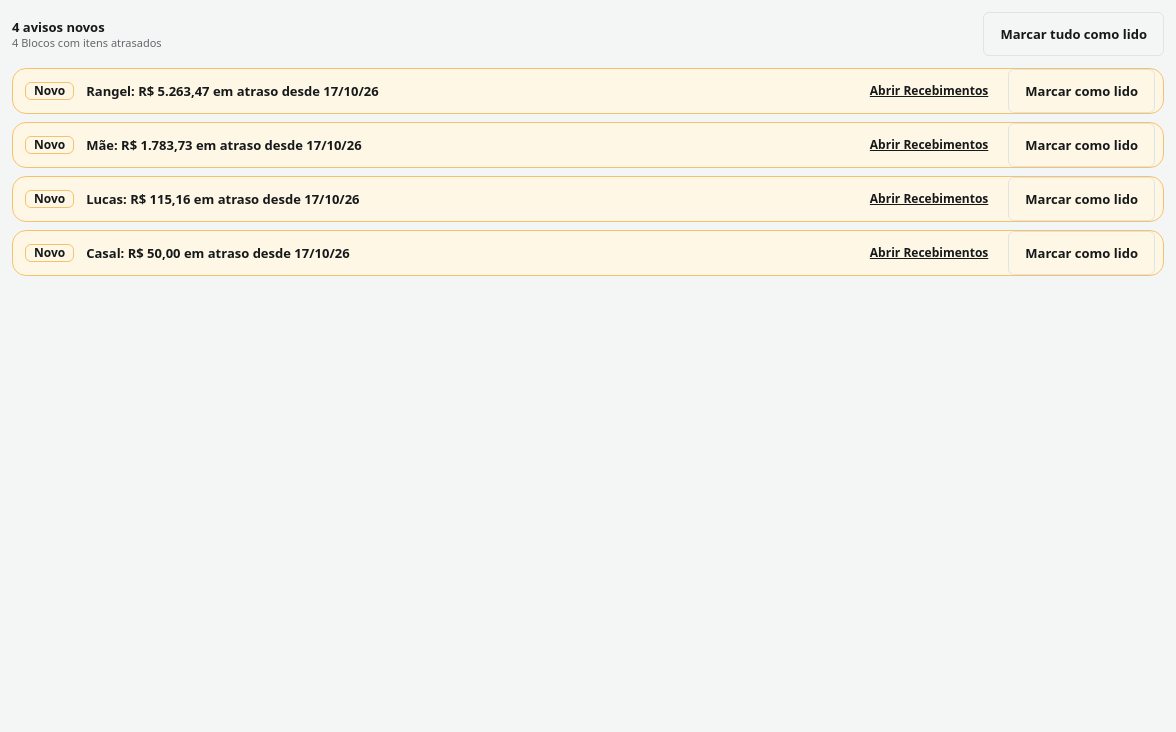
Test: Central de Avisos: marcar como lido › se o banco recusar, avisa 'Não foi possível salvar' e o aviso segue Novo
Click the button with aria-label "Marcar como lido: ": (1082,91) [1008,69,1155,113]
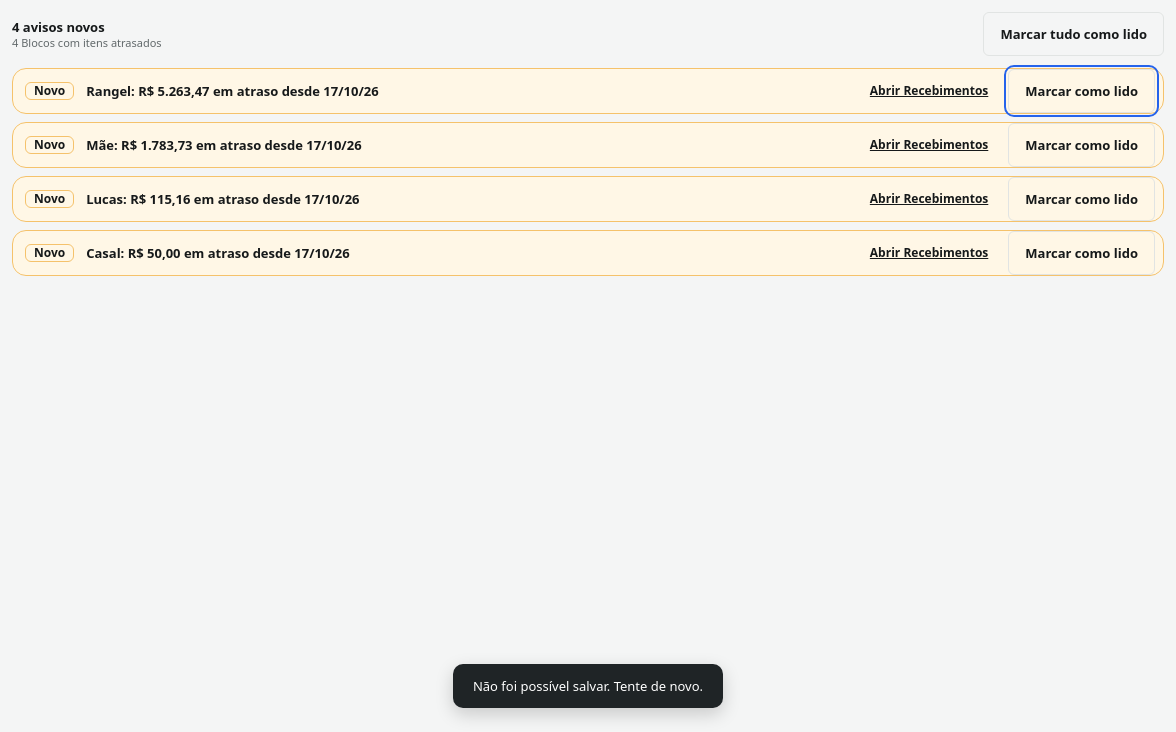
Check: the number of buttons named "Marcar como lido: " is 4, box [1008,69,1155,113]; [1008,123,1155,167]; [1008,177,1155,221]; [1008,231,1155,275]
Check: the text "Não foi possível salvar. Tente de novo." is shown, box [473,677,703,695]
